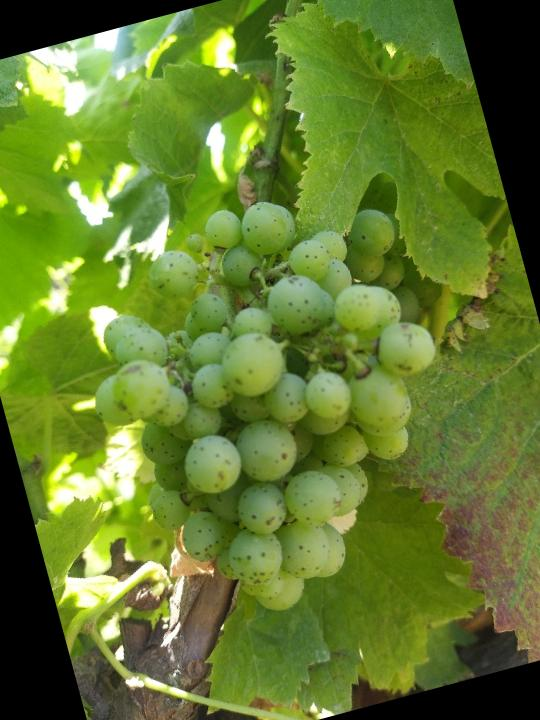grape: (48, 164, 493, 646)
